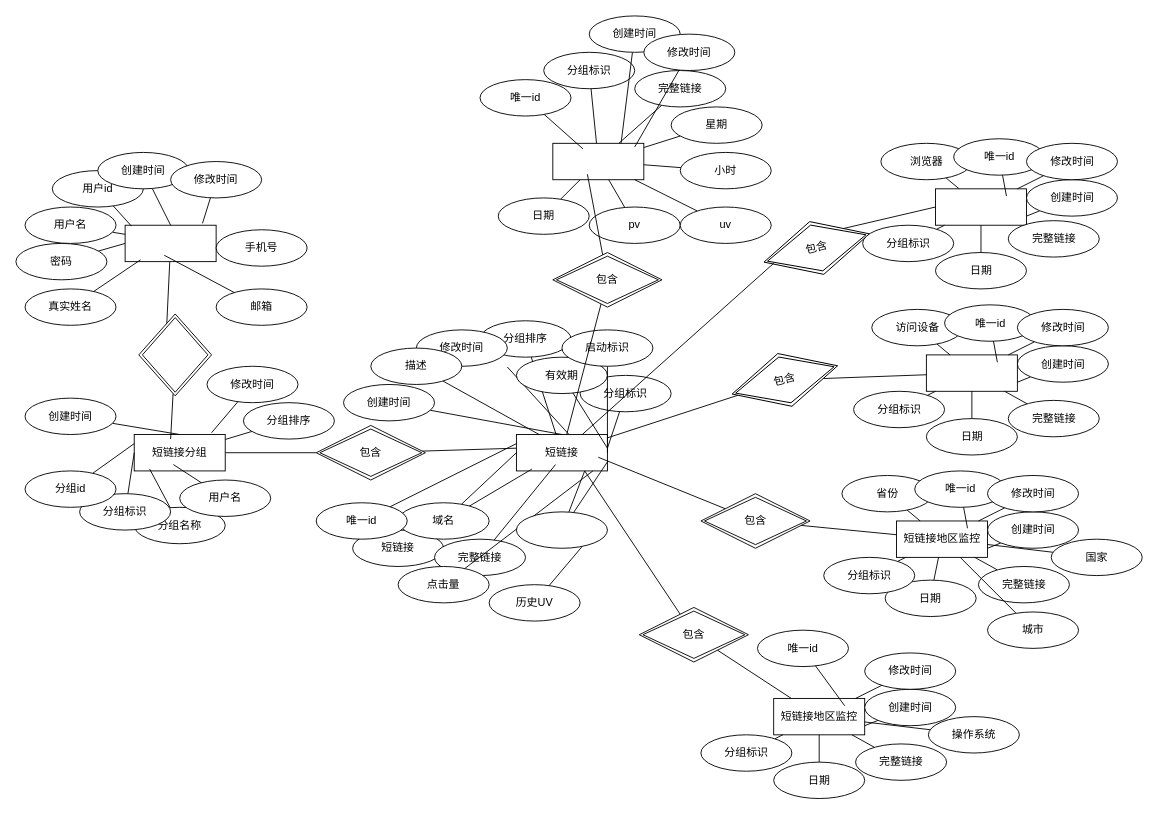
The diagram is 1158 pixels wide and 814 high, and some of its shapes have lost their labels. The shapes that lost their labels are listed below. From the top down, each one's centre as x and y in pixels, then its label:
(x=598, y=161): 短链接访问监控
(x=980, y=206): 短链接浏览器监控
(x=170, y=243): 用户
(x=175, y=354): 创建
(x=971, y=372): 短链接设备监控
(x=561, y=529): 历史PV
